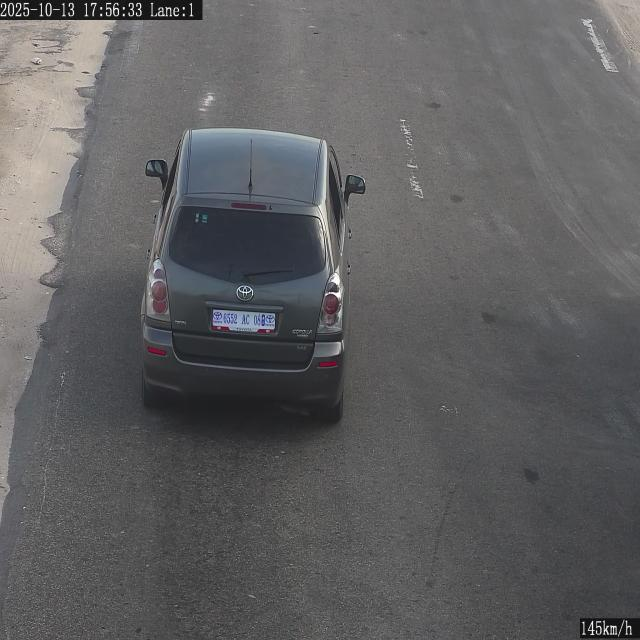BUS: (212, 309, 275, 333)
